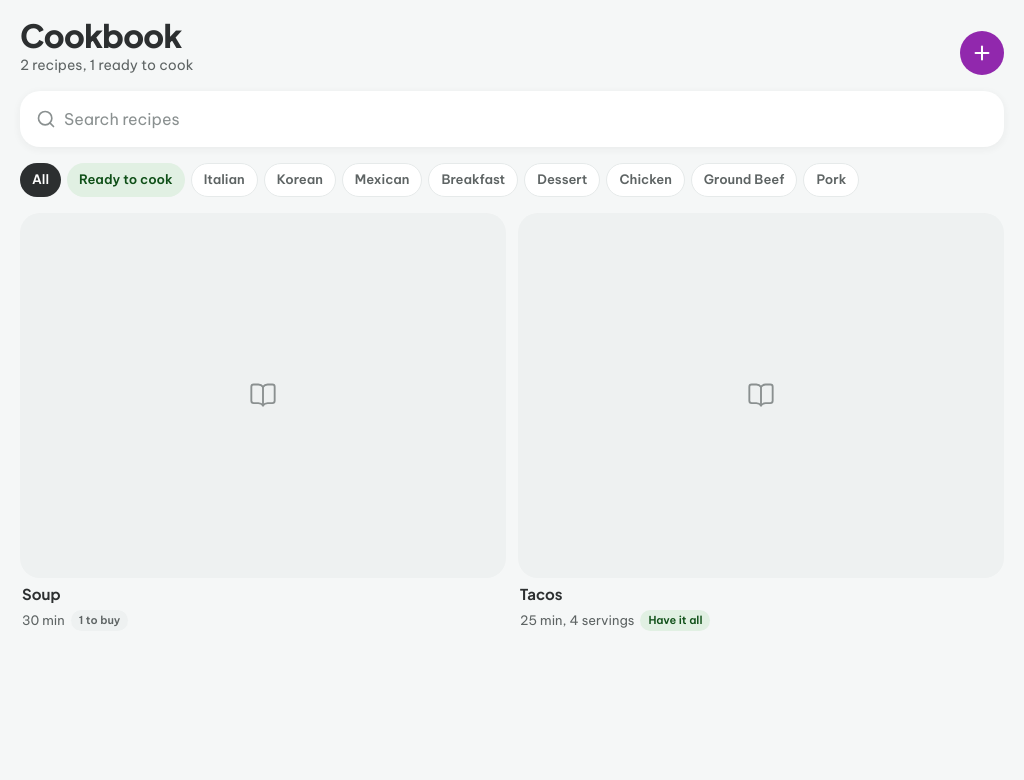
CookbookPage › search narrows the grid
The image size is (1024, 780).
Expected: the text "Tacos" is shown, x1=518 y1=584 x2=564 y2=604
Type "tac" into the search field labelled "Search recipes" at (526, 119), box x1=64 y1=97 x2=988 y2=141
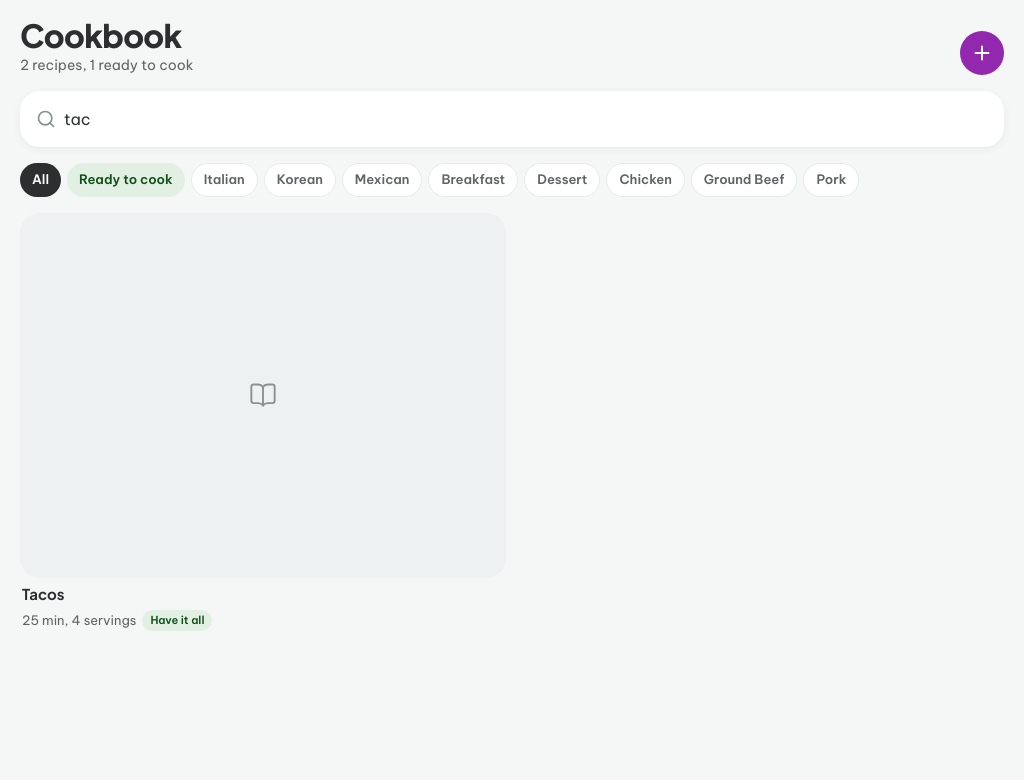
Expected: the text "Tacos" is shown, x1=20 y1=584 x2=66 y2=604
Expected: the button "Soup" is gone
